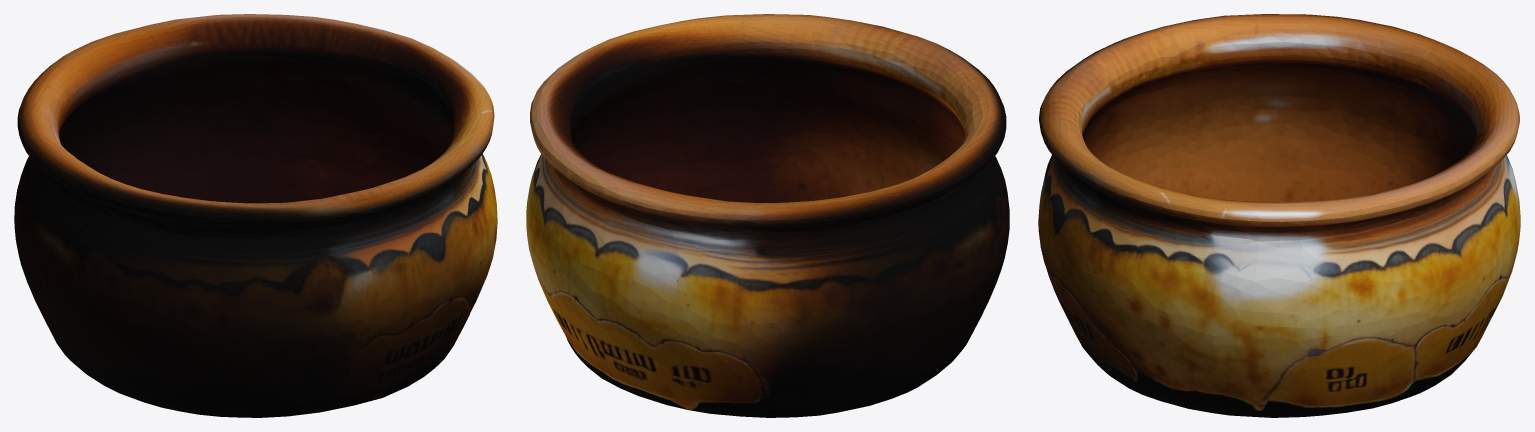
Rendered from ceramic-glazed-pottery-used-rustic-worn.jpeg.glb.
3 views of the same model, side by side, from view 1: azimuth 30°, elevation 25°; view 2: azimuth 150°, elevation 25°; view 3: azimuth 270°, elevation 25° (orthographic).
Parts seen in each view (by area): view 1: world; view 2: world; view 3: world.
Boxes of the visible parts, left/top/right/bottom form: world: left=14, top=14, right=497, bottom=417; world: left=526, top=14, right=1009, bottom=417; world: left=1038, top=14, right=1520, bottom=417.
Bounding box in the file's own units: 0.9991 × 0.5211 × 0.9989.
Materials: 1 (1 with a texture image).
